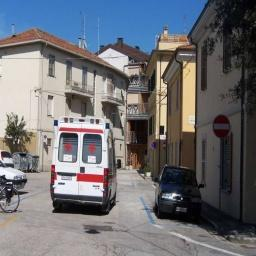ambulance: (50, 116, 116, 212)
